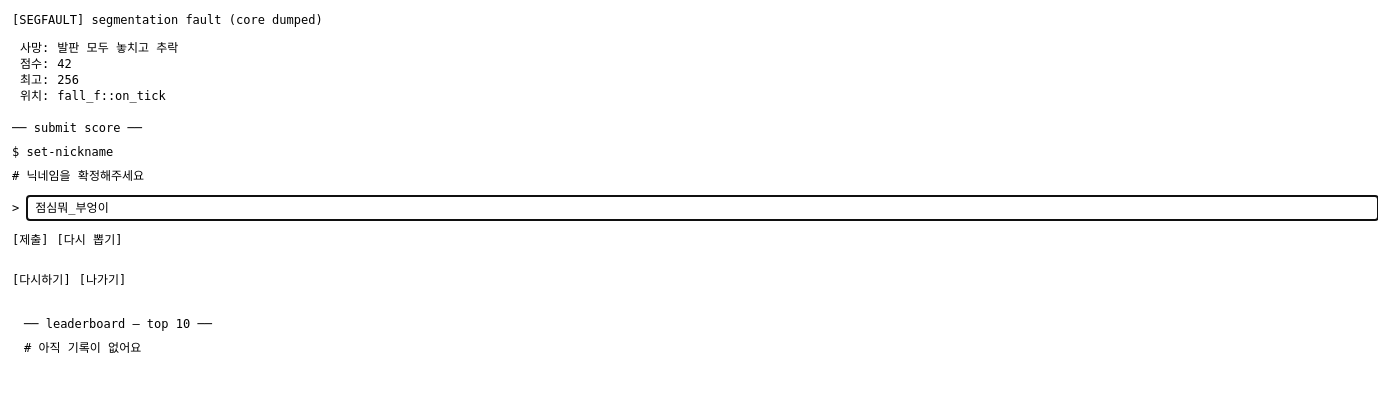
Test case: ResultScreen › shows an inline error and stays interactive when submit fails
Replace the text in the field with "tester": (703, 208) top-left (27, 196), bottom-right (1378, 220)
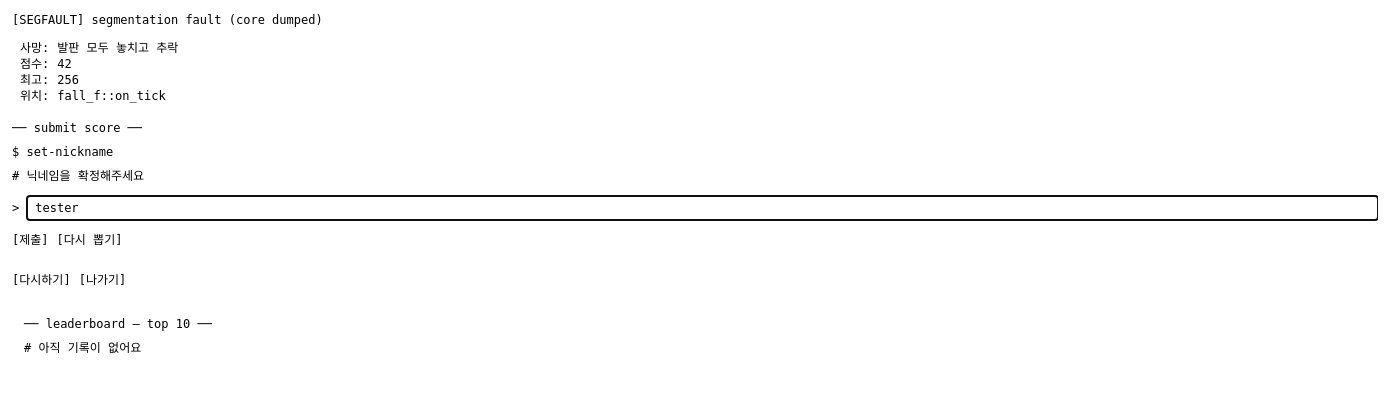
Click the button "[제출]": (30, 240) top-left (12, 232), bottom-right (49, 248)
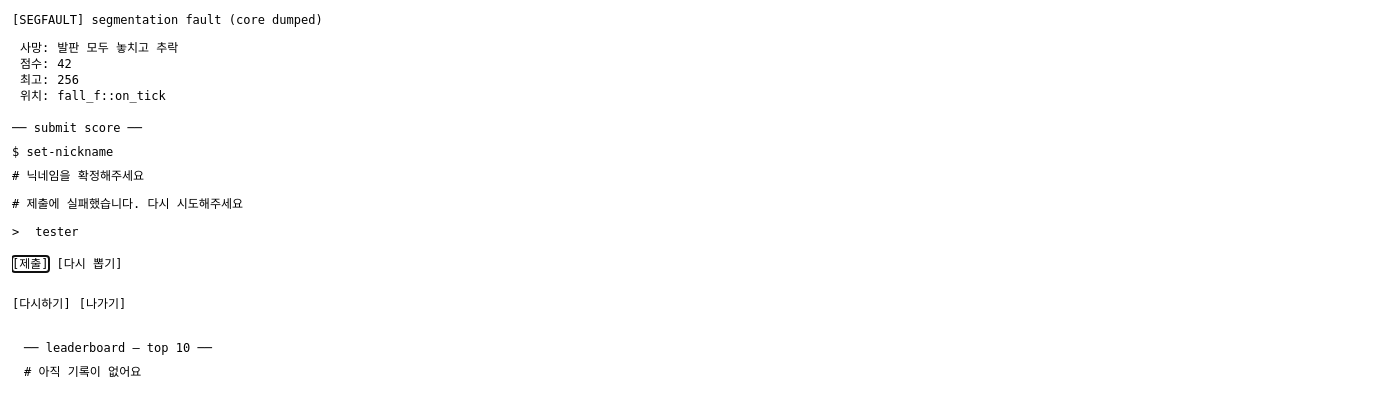
Result: the button "[제출]" is enabled at top-left (12, 256), bottom-right (49, 272)
Result: the text "# 제출에 실패했습니다. 다시 시도해주세요" is shown at top-left (12, 197), bottom-right (243, 211)
